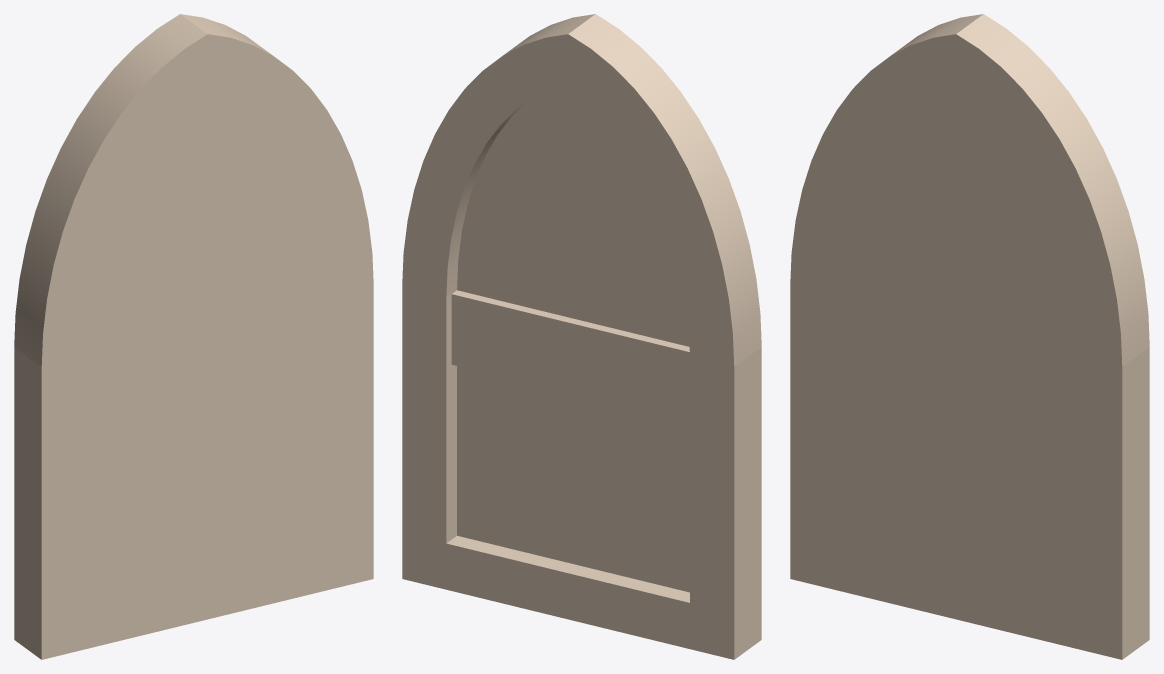
Rendered from door.fbx.
The picture shows the model from 3 angles, left to right: view 1: azimuth 30°, elevation 25°; view 2: azimuth 150°, elevation 25°; view 3: azimuth 330°, elevation 25°; orthographic projection.
Parts seen in each view (by area): view 1: door; view 2: door; view 3: door.
Boxes of the visible parts, x1=… form: door: x1=14, y1=14, x2=373, y2=659; door: x1=402, y1=14, x2=761, y2=659; door: x1=790, y1=14, x2=1149, y2=659.
Bounding box in the file's own units: 108 × 182 × 15.48.
